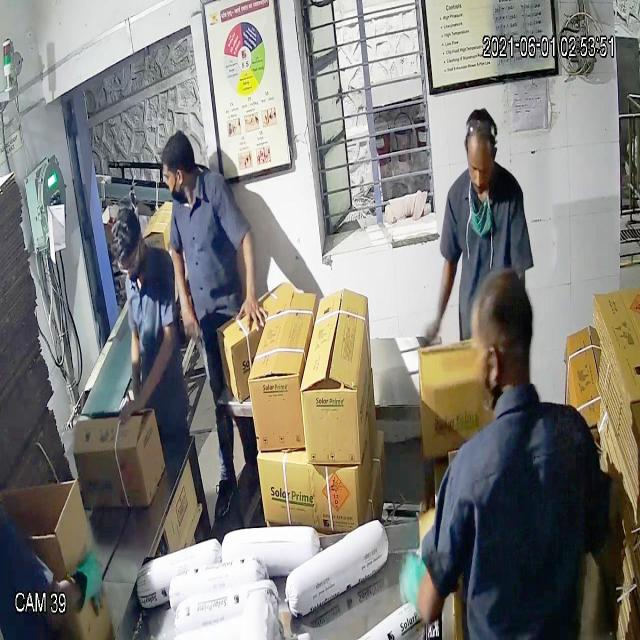glasses: (111, 242, 145, 282)
